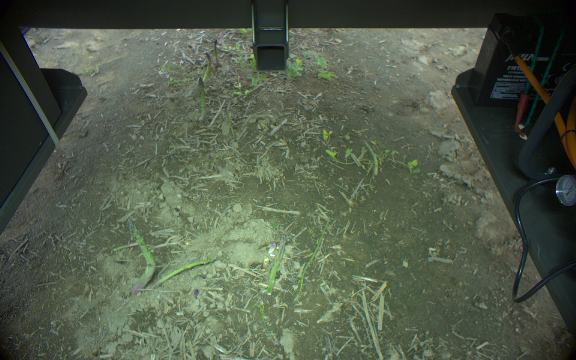aspa: (125, 218, 156, 296), (154, 257, 215, 291), (266, 233, 287, 296), (362, 141, 379, 175), (197, 77, 208, 122), (201, 52, 212, 83), (212, 38, 222, 68)
